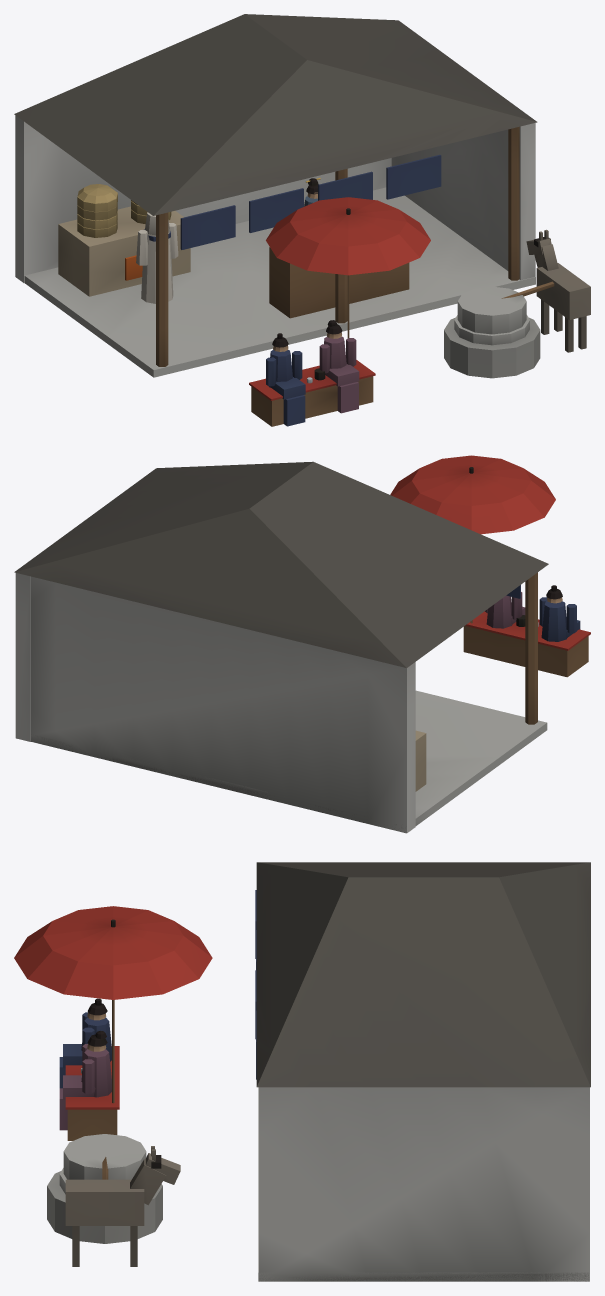
The model's file is bakery.glb.
The picture shows the model from 3 angles, top to bottom: view 1: azimuth 30°, elevation 25°; view 2: azimuth 150°, elevation 25°; view 3: azimuth 270°, elevation 25°; orthographic projection. The views are drawn at different scales.
Parts seen in each view (by area): view 1: base, anim_spin; view 2: base; view 3: base, anim_spin.
Boxes of the visible parts, x1,y1,x2,y2 form: base: (14,14,540,426); anim_spin: (457,229,590,352); base: (14,455,590,833); base: (14,862,590,1281); anim_spin: (63,1134,180,1266).
Size of the model in its own units: 6.44 by 3.91 by 6.97.
